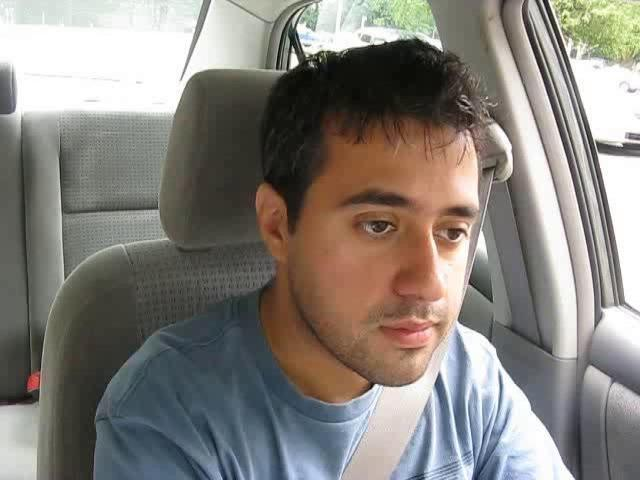eye_open: (347, 212, 404, 246), (433, 220, 473, 248)
face: (308, 165, 491, 388)
